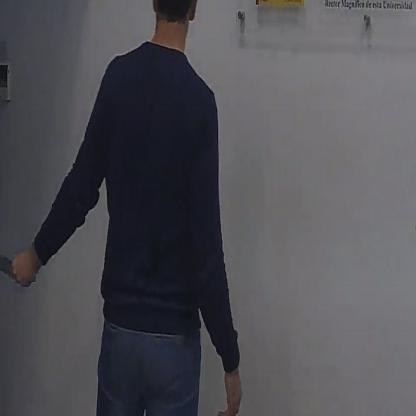knife: (0, 236, 32, 289)
